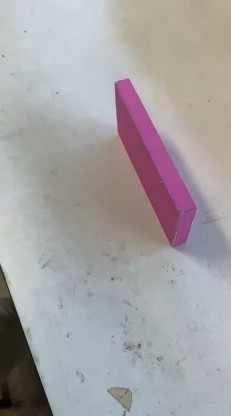pink: (95, 66, 196, 248)
